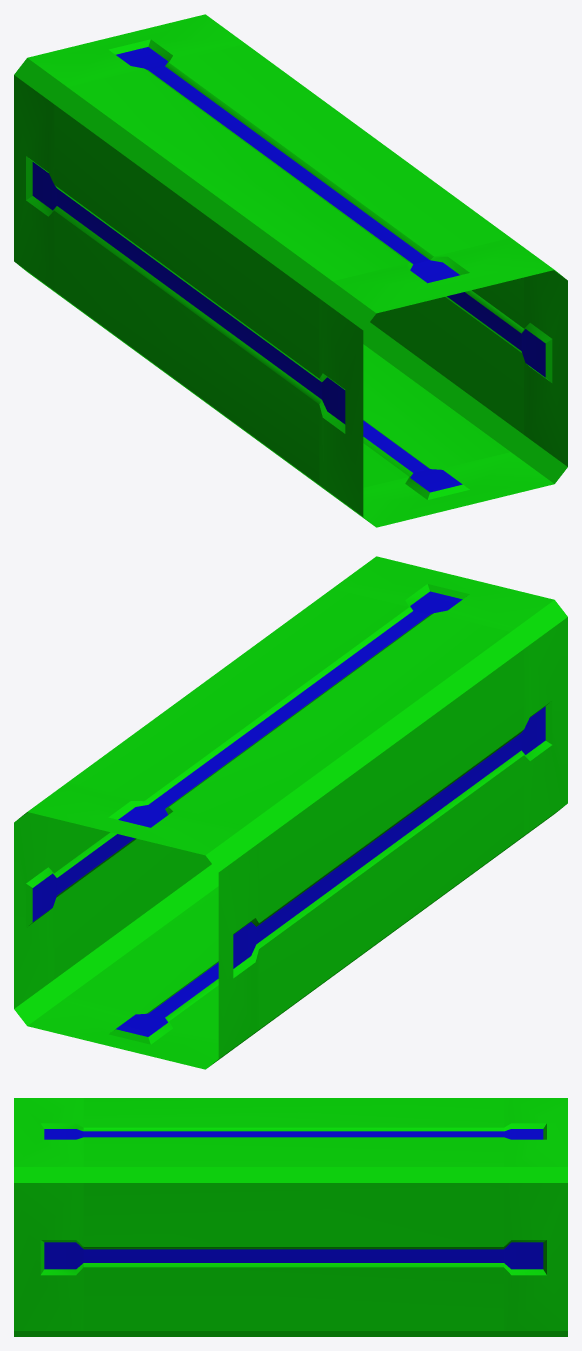
The model's file is MePlainteMurDemi.FBX.
The picture shows the model from 3 angles, top to bottom: view 1: azimuth 30°, elevation 25°; view 2: azimuth 150°, elevation 25°; view 3: azimuth 270°, elevation 25°; orthographic projection. The views are drawn at different scales.
Visible parts, largest first — view 1: PilierCorpsDemi; view 2: PilierCorpsDemi; view 3: PilierCorpsDemi.
Part boxes in pixels (x1=…): PilierCorpsDemi: x1=14, y1=14, x2=567, y2=527; PilierCorpsDemi: x1=14, y1=556, x2=567, y2=1069; PilierCorpsDemi: x1=14, y1=1098, x2=567, y2=1336.
Bounding box in the file's own units: 51.91 × 51.91 × 152.
